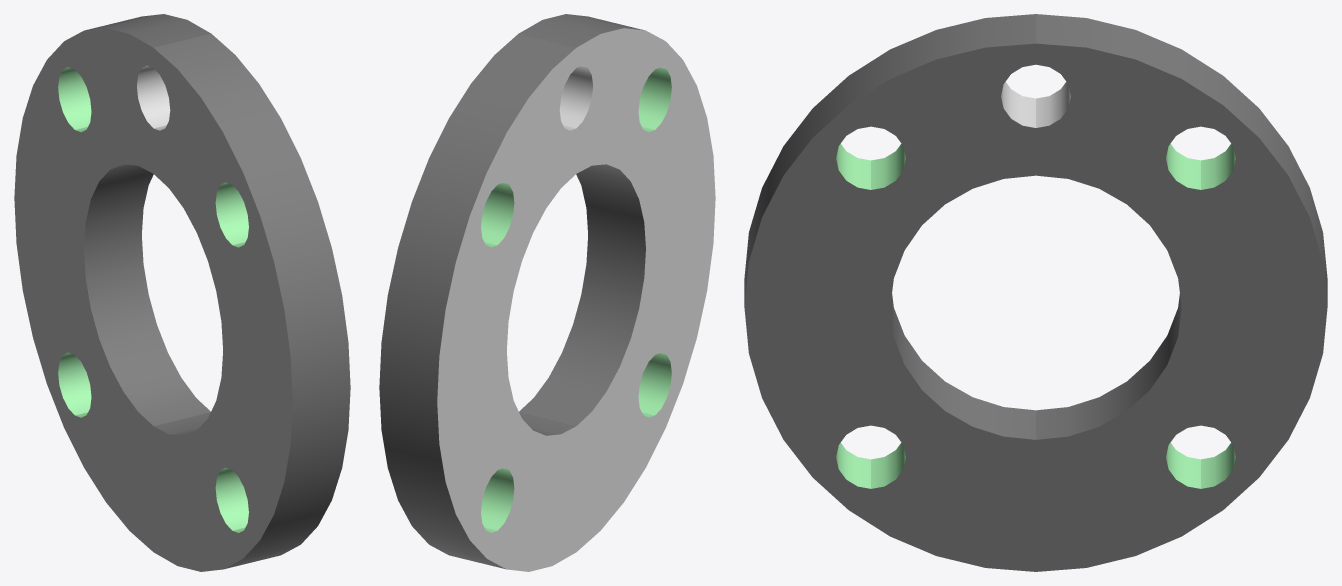
3 views of the same model, side by side, from view 1: azimuth 30°, elevation 25°; view 2: azimuth 150°, elevation 25°; view 3: azimuth 270°, elevation 25° (orthographic). The views are drawn at different scales.
Parts seen in each view (by area): view 1: Mesh_0; view 2: Mesh_0; view 3: Mesh_0.
Boxes of the visible parts, left/top/right/bottom form: Mesh_0: left=14, top=14, right=350, bottom=571; Mesh_0: left=379, top=14, right=715, bottom=571; Mesh_0: left=744, top=14, right=1327, bottom=571.
Bounding box in the file's own units: 0.006 × 0.05 × 0.05.
